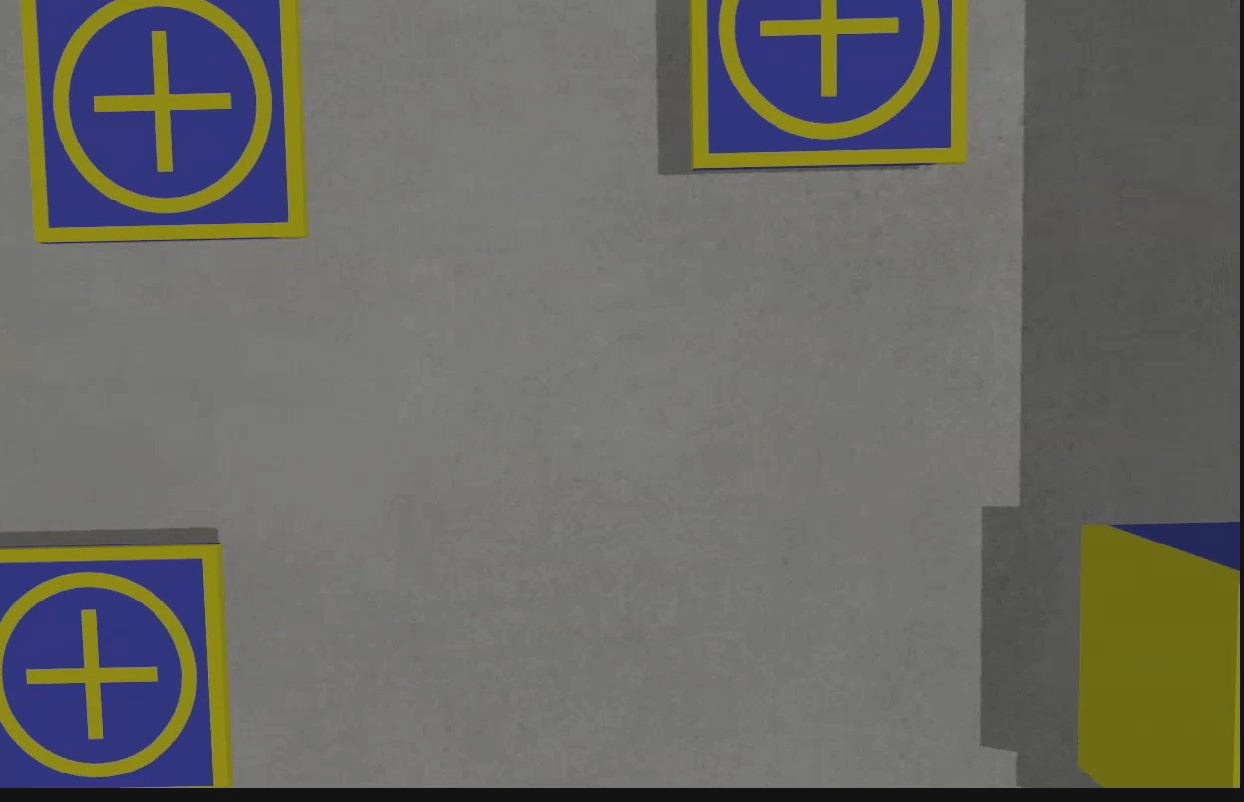small_base: (22, 1, 311, 245), (0, 543, 232, 788), (686, 1, 970, 167)
